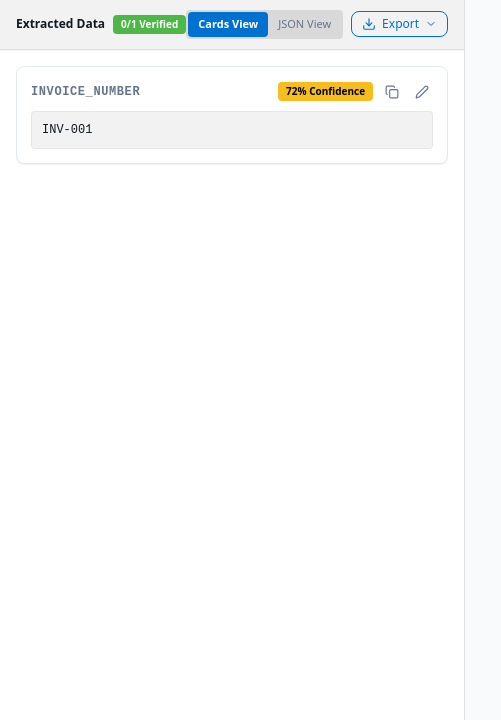
it: Pane2ExtractedData export error handling [BLK-253] › falls back to client-side JSON export when API fails
The image size is (501, 720).
Expected: the text "INV-001" is shown, [31, 110, 433, 148]
Click the button "Export" at (400, 24), box [351, 11, 448, 37]
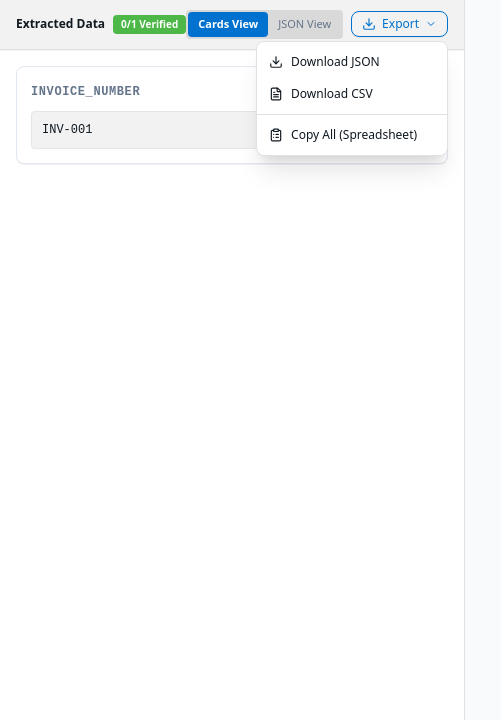
Click the button "Download JSON" at (352, 62), box [257, 46, 447, 78]
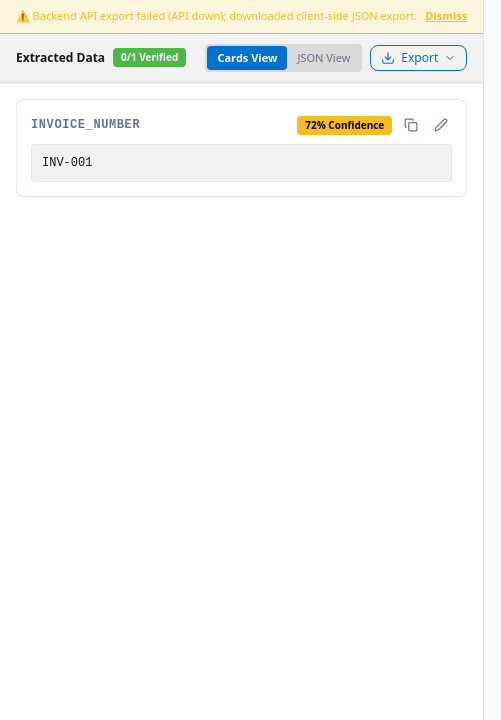
Result: the text "Backend API export failed" is shown at [33, 8, 417, 23]
